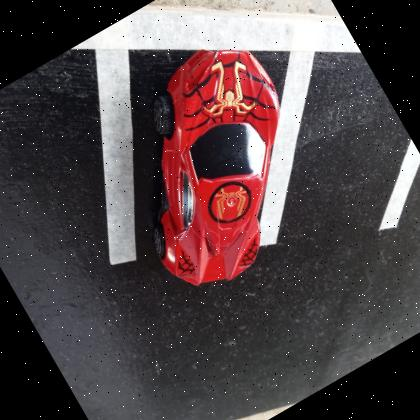Car: (153, 48, 279, 284)
